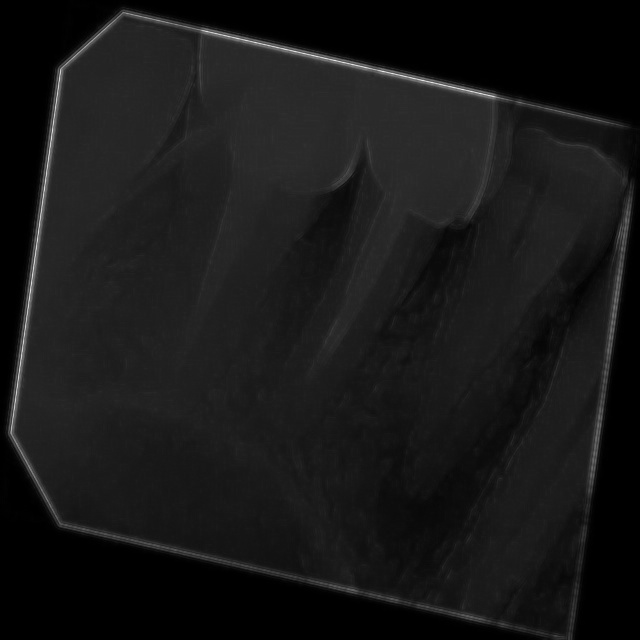Class 0- No endodontic treatment: (56, 9, 352, 431)
Class 1- complete endodontic treatment: (243, 52, 530, 549)
